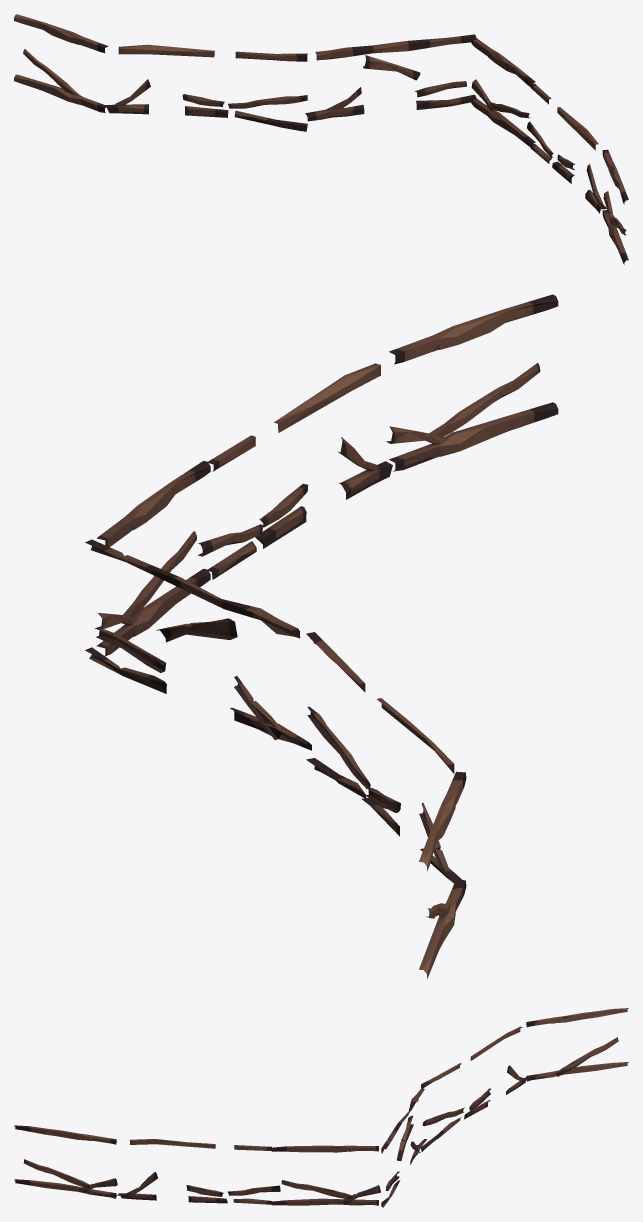
Rendered from Wood_01.FBX.
3 views of the same model, one above another, from view 1: azimuth 30°, elevation 25°; view 2: azimuth 150°, elevation 25°; view 3: azimuth 270°, elevation 25° (orthographic). The views are drawn at different scales.
Parts seen in each view (by area): view 1: Wood_01; view 2: Wood_01; view 3: Wood_01.
Boxes of the visible parts, x1,y1,x2,y2 form: Wood_01: [14, 14, 628, 264]; Wood_01: [85, 294, 558, 978]; Wood_01: [14, 1008, 628, 1207].
Size of the model in its own units: 27.16 by 6.28 by 49.56.
